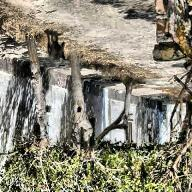boar: (41, 22, 74, 66)
